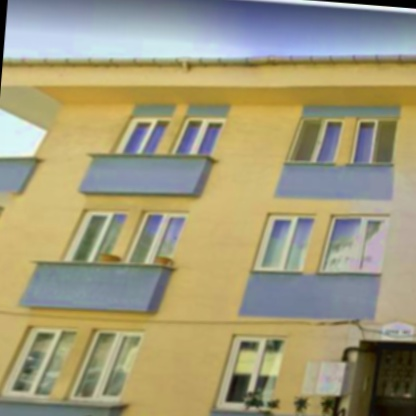door: (365, 345, 416, 416)
